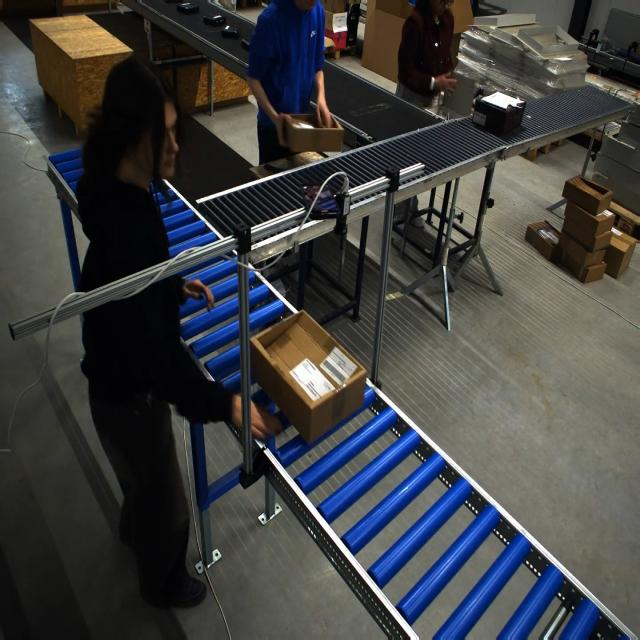box: (249, 310, 359, 442), (472, 90, 527, 136), (283, 112, 342, 153)
product: (203, 13, 226, 25), (220, 25, 241, 38), (176, 2, 199, 13), (241, 38, 251, 51)
